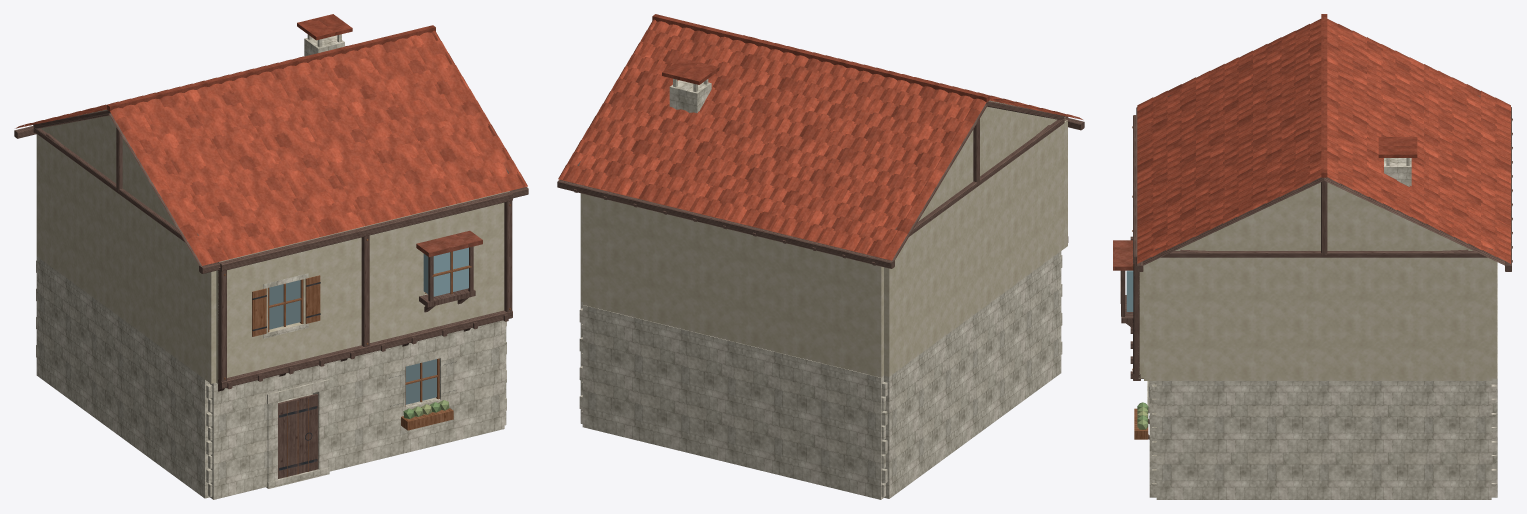
File: B17_vivienda.glb
The picture shows the model from 3 angles, left to right: view 1: azimuth 30°, elevation 25°; view 2: azimuth 150°, elevation 25°; view 3: azimuth 270°, elevation 25°; orthographic projection. The views are drawn at different scales.
Parts seen in each view (by area): view 1: AUR034_B17_clay_tiles, AUR034_B17_upper_plaster, AUR034_B17_lower_masonry, AUR034_B17_gable-1, AUR034_B17_head, AUR034_B17_entry_leaf0, AUR034_B17_sill, AUR034_B17_ridge, AUR034_B17_oriel2_front_glass, AUR034_B17_gable_tie-1, AUR034_B17_window1_glazing, AUR034_B17_window0_glazing (+13 smaller); view 2: AUR034_B17_clay_tiles, AUR034_B17_lower_masonry, AUR034_B17_upper_plaster, AUR034_B17_gable-1, AUR034_B17_fascia1, AUR034_B17_ridge, AUR034_B17_gable_tie-1, AUR034_B17_dressed_corner_stones, AUR034_B17_chimney, AUR034_B17_cowl, AUR034_B17_roof_sheathing; view 3: AUR034_B17_clay_tiles, AUR034_B17_upper_plaster, AUR034_B17_lower_masonry, AUR034_B17_gable1, AUR034_B17_gable_tie1, AUR034_B17_roof_sheathing, AUR034_B17_dressed_corner_stones, AUR034_B17_ridge, AUR034_B17_cowl, AUR034_B17_post2, AUR034_B17_head, AUR034_B17_oriel2_clay_hood (+2 smaller).
Part boxes in pixels (x1,y1,x2,y2): AUR034_B17_clay_tiles: (15,30,527,265); AUR034_B17_upper_plaster: (36,134,509,383); AUR034_B17_lower_masonry: (36,256,506,499); AUR034_B17_gable-1: (41,109,176,227); AUR034_B17_head: (218,191,512,271); AUR034_B17_entry_leaf0: (278,393,318,478); AUR034_B17_sill: (218,310,512,388); AUR034_B17_ridge: (107,25,435,111); AUR034_B17_oriel2_front_glass: (433,247,468,296); AUR034_B17_gable_tie-1: (33,127,185,242); AUR034_B17_window1_glazing: (269,280,300,329); AUR034_B17_window0_glazing: (405,359,436,404); AUR034_B17_clay_tiles: (558,19,1082,260); AUR034_B17_lower_masonry: (580,251,1061,499); AUR034_B17_upper_plaster: (580,117,1067,377); AUR034_B17_gable-1: (918,100,1056,221); AUR034_B17_fascia1: (557,179,894,268); AUR034_B17_ridge: (652,14,989,102); AUR034_B17_gable_tie-1: (909,119,1064,236); AUR034_B17_dressed_corner_stones: (579,255,1062,497); AUR034_B17_chimney: (669,80,711,112); AUR034_B17_cowl: (662,58,719,84); AUR034_B17_roof_sheathing: (892,104,1076,260); AUR034_B17_clay_tiles: (1137,19,1510,263); AUR034_B17_upper_plaster: (1138,258,1497,380); AUR034_B17_lower_masonry: (1149,262,1497,499); AUR034_B17_gable1: (1159,182,1489,258); AUR034_B17_gable_tie1: (1157,251,1491,257); AUR034_B17_roof_sheathing: (1143,177,1505,265); AUR034_B17_dressed_corner_stones: (1152,384,1496,496); AUR034_B17_ridge: (1321,14,1327,177); AUR034_B17_cowl: (1378,137,1417,157); AUR034_B17_post2: (1133,260,1139,377); AUR034_B17_head: (1133,115,1137,263); AUR034_B17_oriel2_clay_hood: (1113,240,1133,270).
Size of the model in its own units: 8.96 by 8.82 by 9.54.
14 materials, 9 textured.
